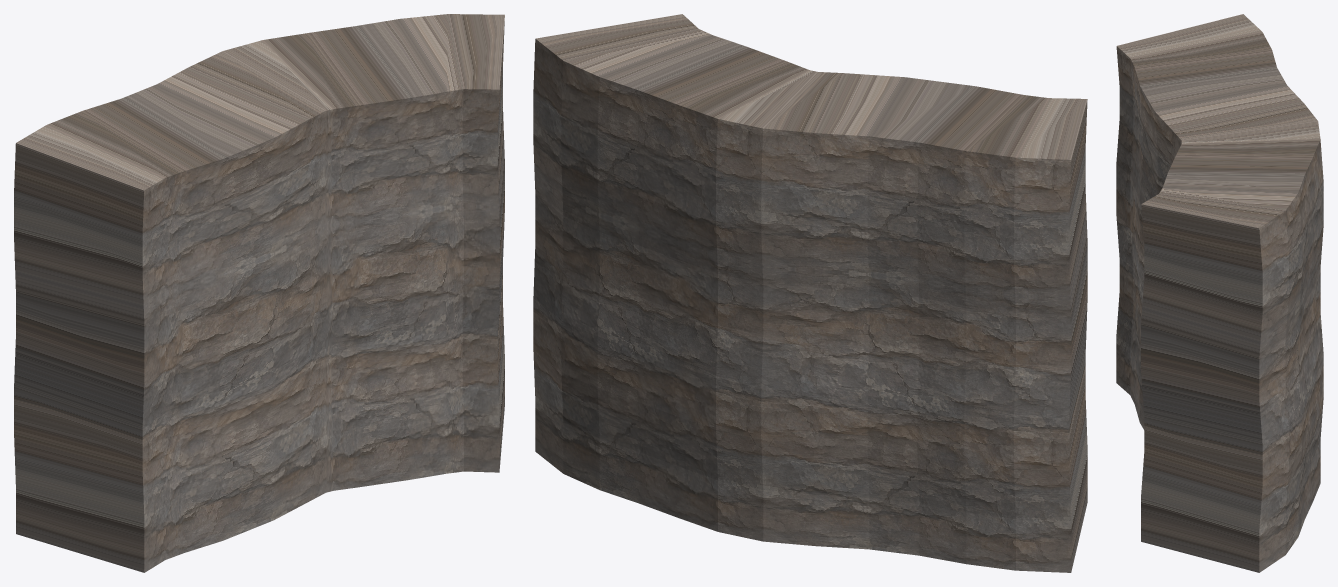
File: cliff-convex.glb
The picture shows the model from 3 angles, left to right: view 1: azimuth 30°, elevation 25°; view 2: azimuth 150°, elevation 25°; view 3: azimuth 270°, elevation 25°; orthographic projection. The views are drawn at different scales.
Parts seen in each view (by area): view 1: cliff-convex; view 2: cliff-convex; view 3: cliff-convex.
Part boxes in pixels (x1=…): cliff-convex: x1=14, y1=14, x2=504, y2=572; cliff-convex: x1=533, y1=14, x2=1087, y2=572; cliff-convex: x1=1116, y1=14, x2=1323, y2=572.
Size of the model in its own units: 4 by 3 by 1.64.
1 material, 1 textured.
